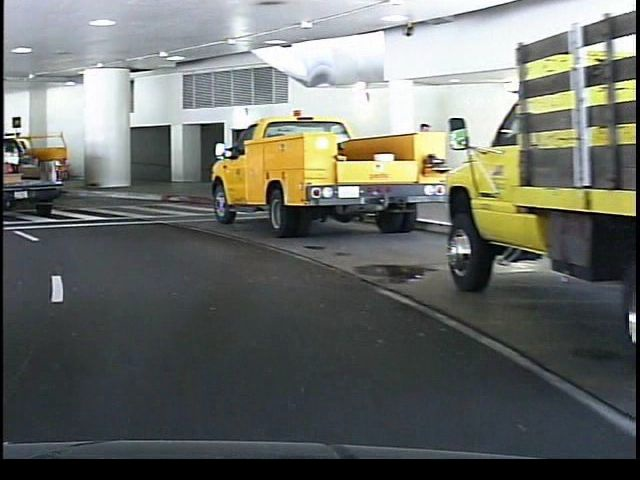person: (408, 117, 438, 210)
